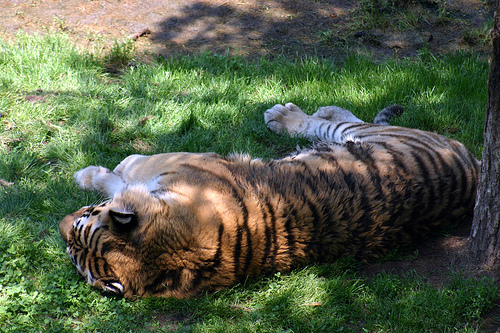Tigre: (62, 90, 483, 273)
